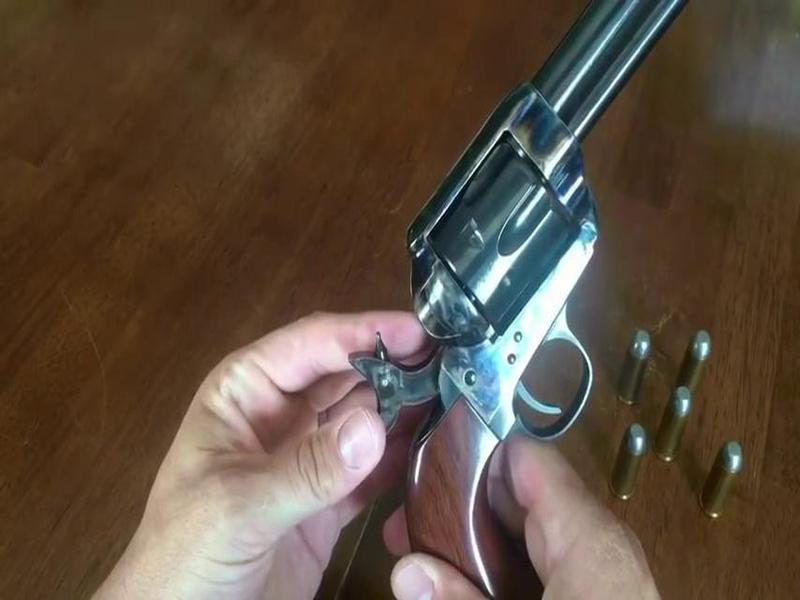Revolver: (410, 6, 696, 600)
